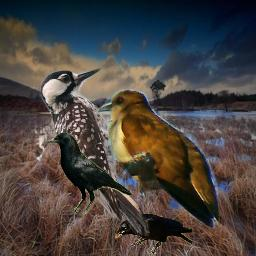Crow: (45, 132, 132, 215), (114, 213, 192, 254)
Cuckoo: (98, 89, 218, 231)
Woodpecker: (40, 67, 154, 236)
